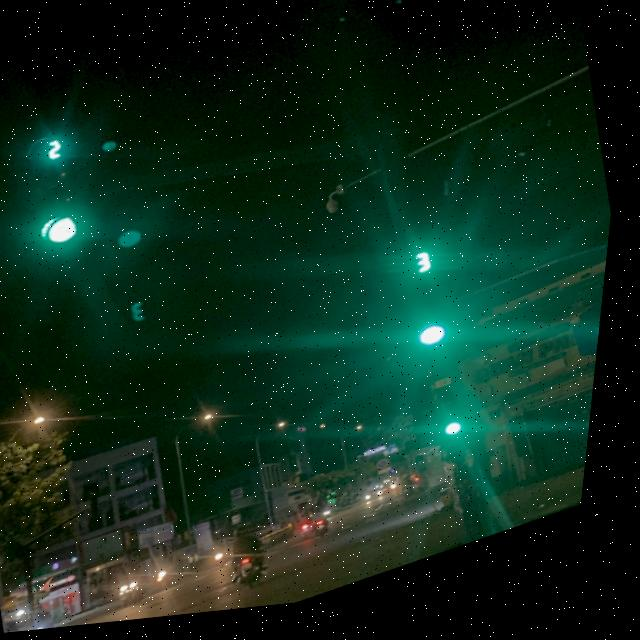Green: (12, 153, 102, 263), (401, 285, 474, 377), (435, 399, 486, 457)
